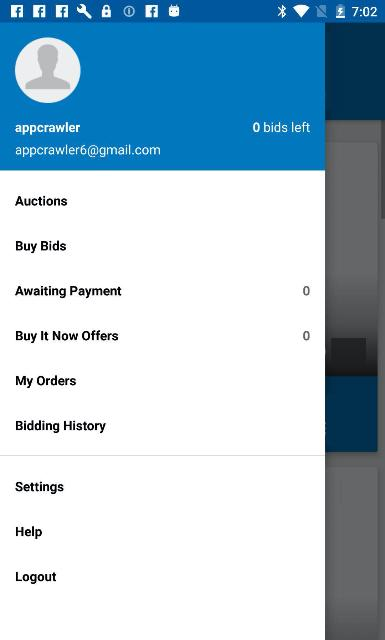Drawer: (1, 22, 326, 640)
Icon: (15, 37, 81, 103)
List: (1, 172, 326, 602)
Text: (15, 144, 160, 158), (16, 331, 118, 344), (15, 286, 122, 298), (16, 420, 106, 432), (16, 122, 80, 134), (16, 376, 76, 388), (253, 121, 310, 133), (16, 240, 66, 253), (15, 481, 63, 494), (15, 195, 67, 205), (16, 572, 56, 584), (16, 526, 42, 538), (303, 285, 310, 295), (303, 330, 310, 340)
UpperTaskBar: (0, 0, 384, 22)
